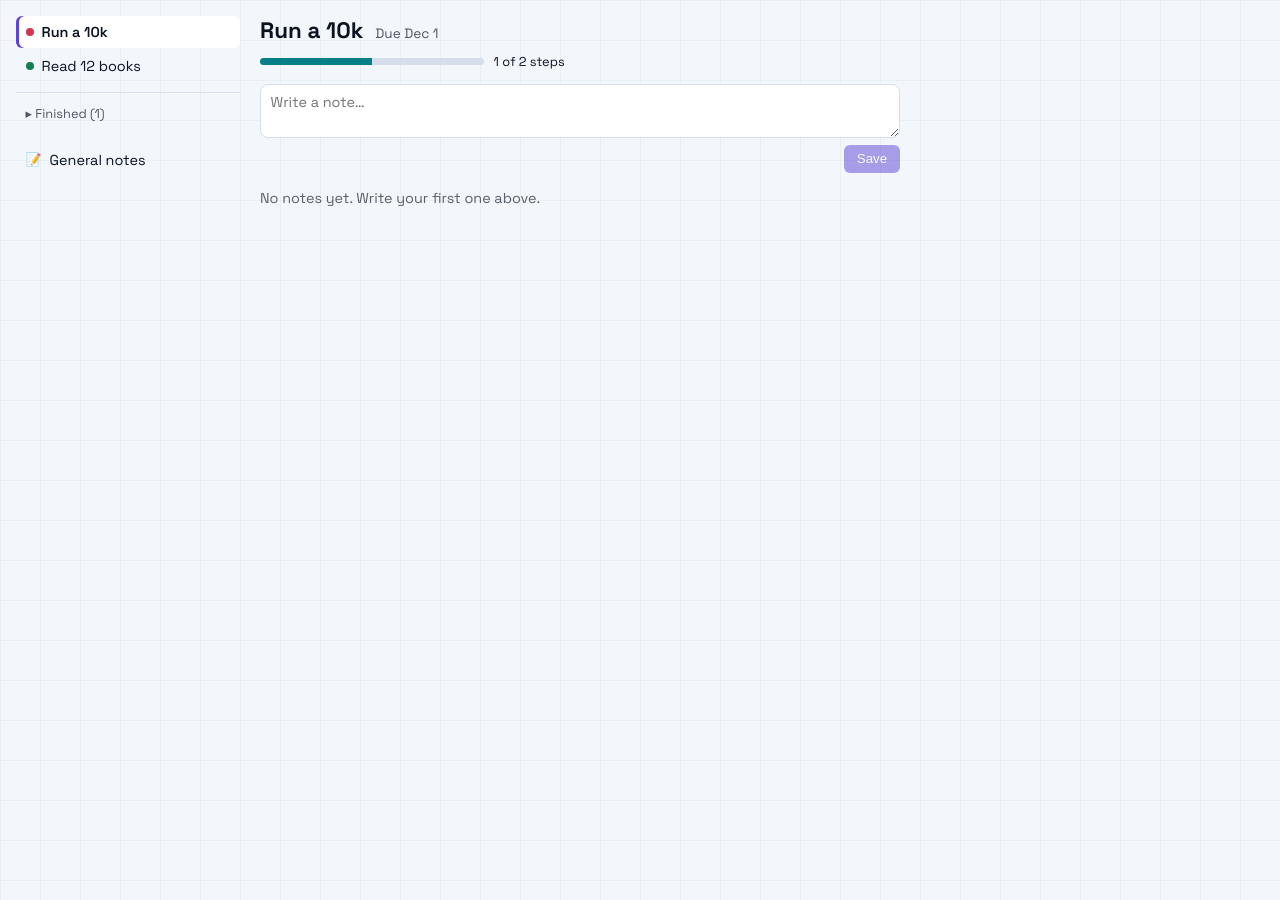
Test: NotesPage list › keeps finished goals in a collapsed Finished group
Click the button "Finished (1)" at (128, 113), box [16,101,240,126]
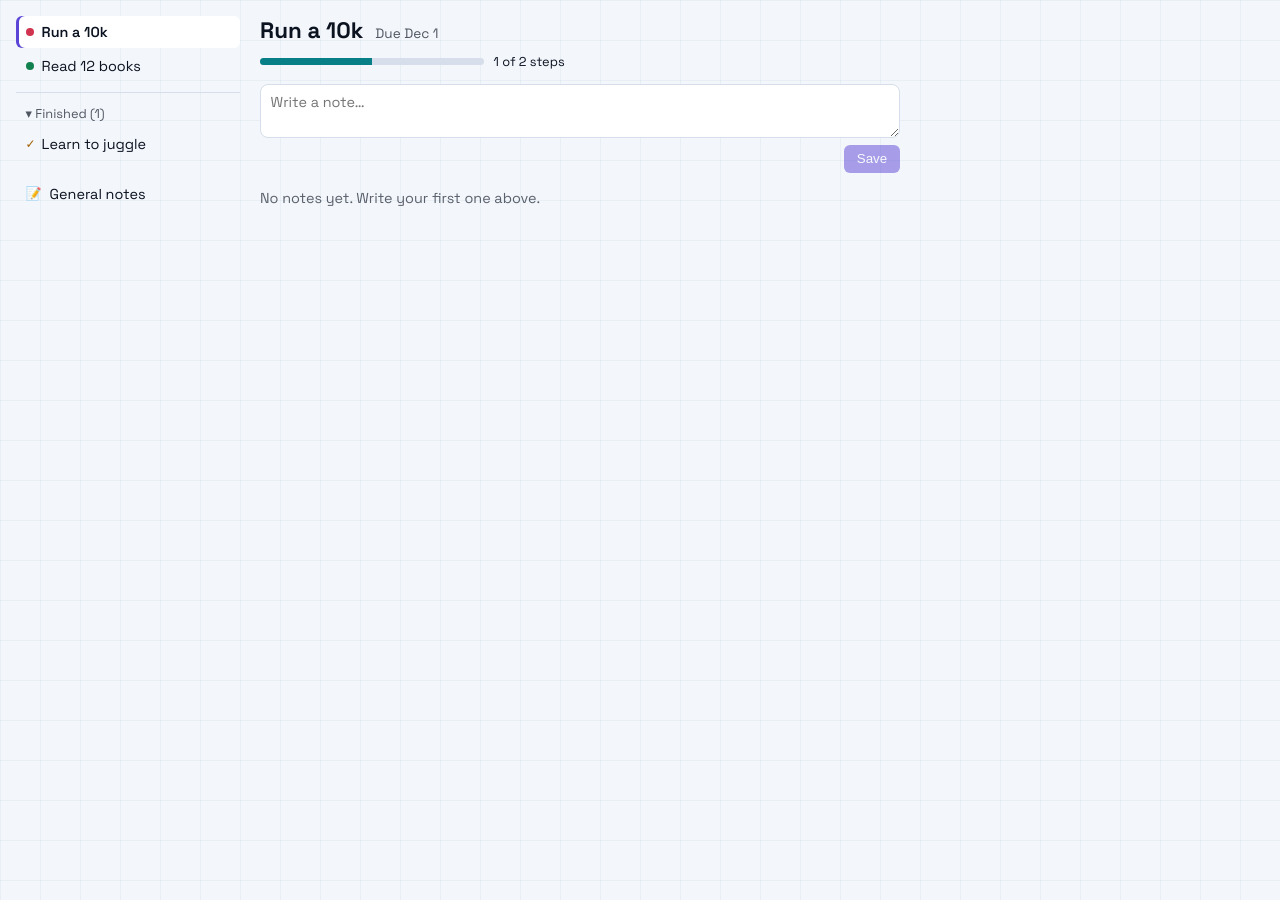
expect the button with class "notes-item" showing "✓ Learn to juggle" is shown: met, box [16,128,240,160]
